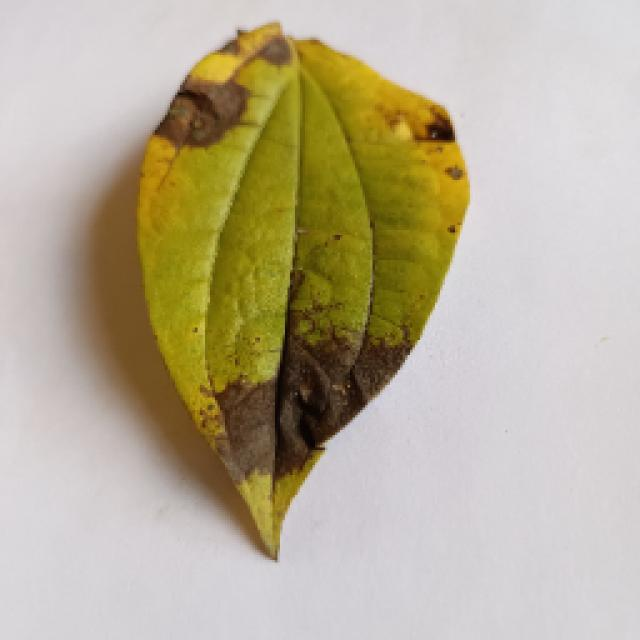slow-decline: (110, 25, 482, 560)
